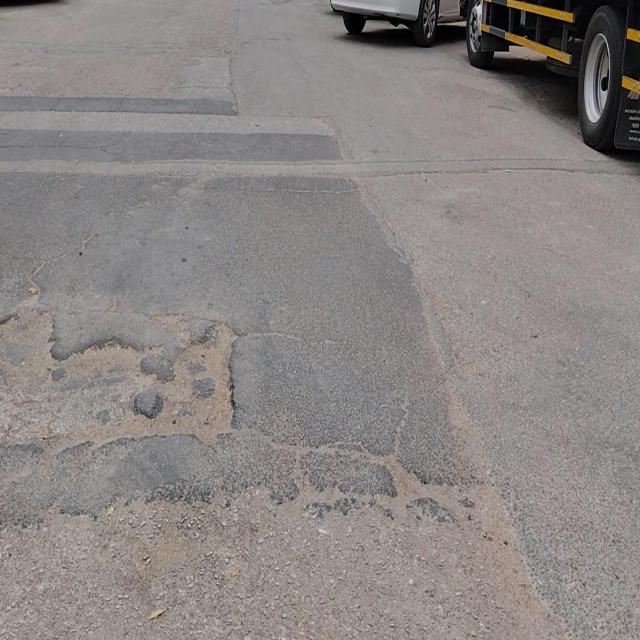Potholes: (42, 329, 159, 454), (138, 315, 245, 450)
